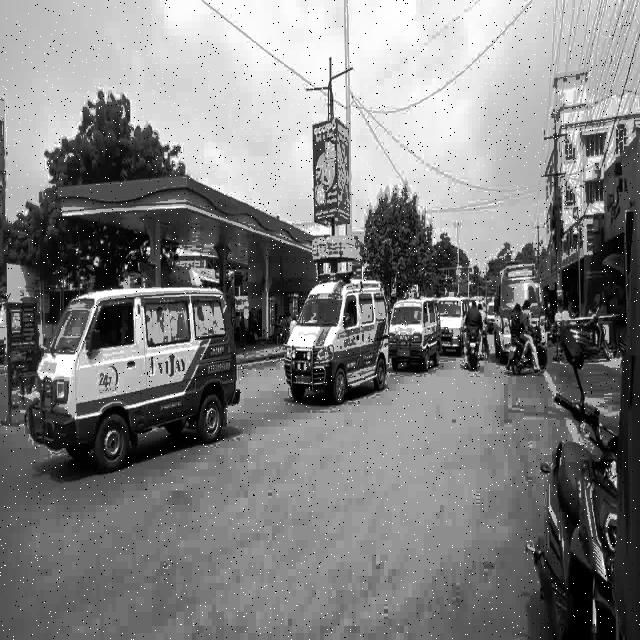Ambulance: (23, 268, 244, 478), (277, 260, 391, 410), (399, 275, 443, 403), (432, 262, 472, 366), (490, 255, 554, 312)
